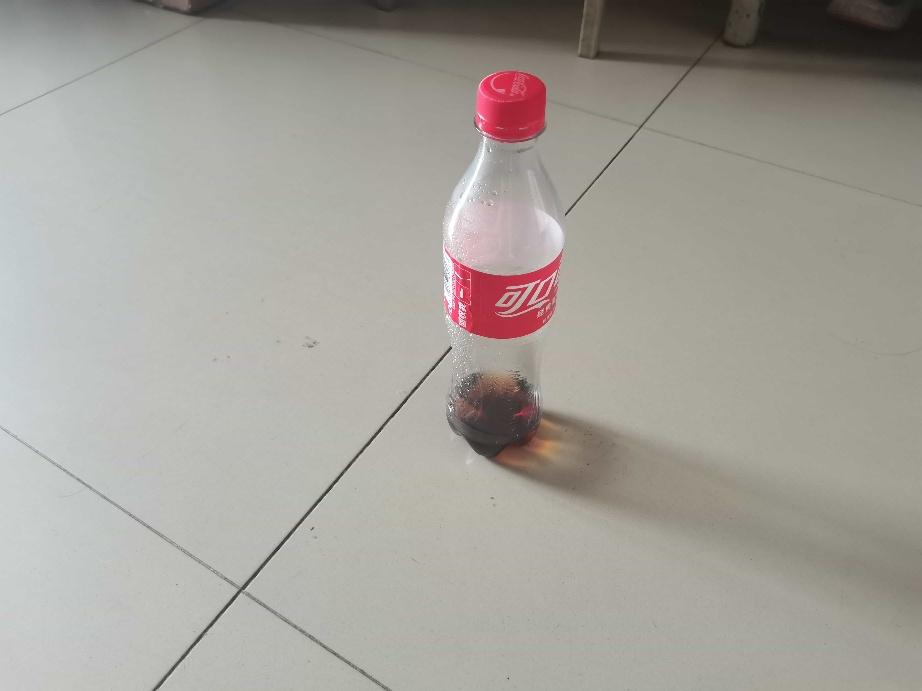plastic bottle: (431, 65, 574, 467)
